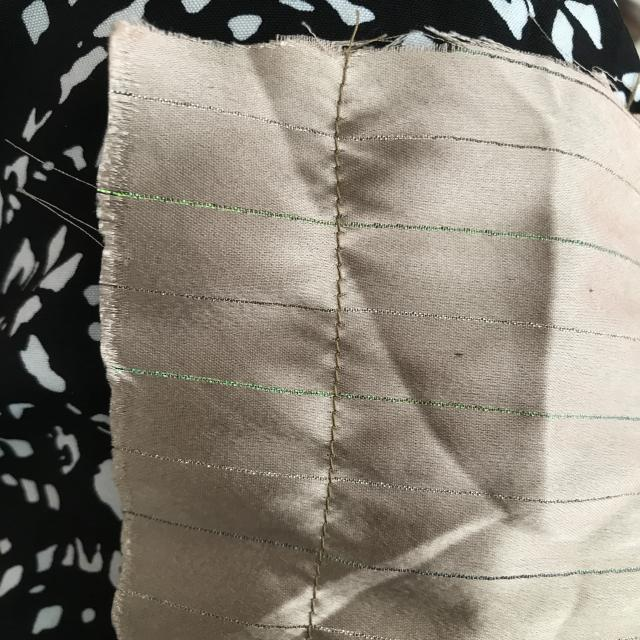good: (307, 145, 355, 211), (324, 237, 360, 300), (312, 484, 347, 536), (325, 325, 353, 374)
